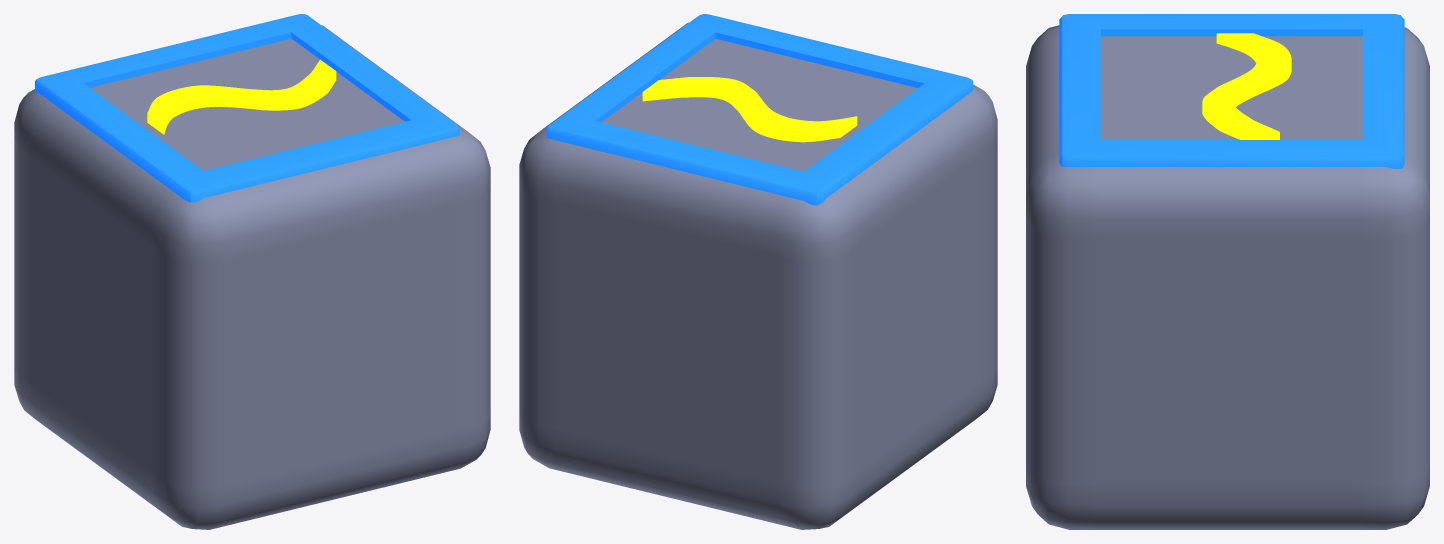
The model's file is CUBE_wawe.fbx.
3 views of the same model, side by side, from view 1: azimuth 30°, elevation 25°; view 2: azimuth 150°, elevation 25°; view 3: azimuth 270°, elevation 25° (orthographic). The views are drawn at different scales.
Parts seen in each view (by area): view 1: Cube.018, Cube.031, Text.003; view 2: Cube.018, Cube.031, Text.003; view 3: Cube.018, Cube.031, Text.003.
Part boxes in pixels (left/top/right/bottom): Cube.018: left=14, top=25, right=490, bottom=529; Cube.031: left=35, top=14, right=459, bottom=202; Text.003: left=147, top=59, right=336, bottom=134; Cube.018: left=519, top=22, right=997, bottom=529; Cube.031: left=546, top=14, right=973, bottom=205; Text.003: left=642, top=77, right=857, bottom=142; Cube.018: left=1026, top=25, right=1429, bottom=529; Cube.031: left=1059, top=14, right=1404, bottom=168; Text.003: left=1202, top=33, right=1291, bottom=139.
Bounding box in the file's own units: 200 × 206 × 200.
